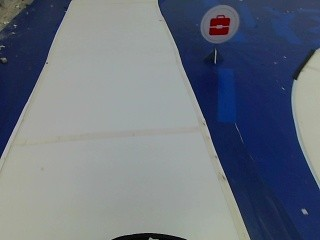company: (201, 6, 238, 41)
